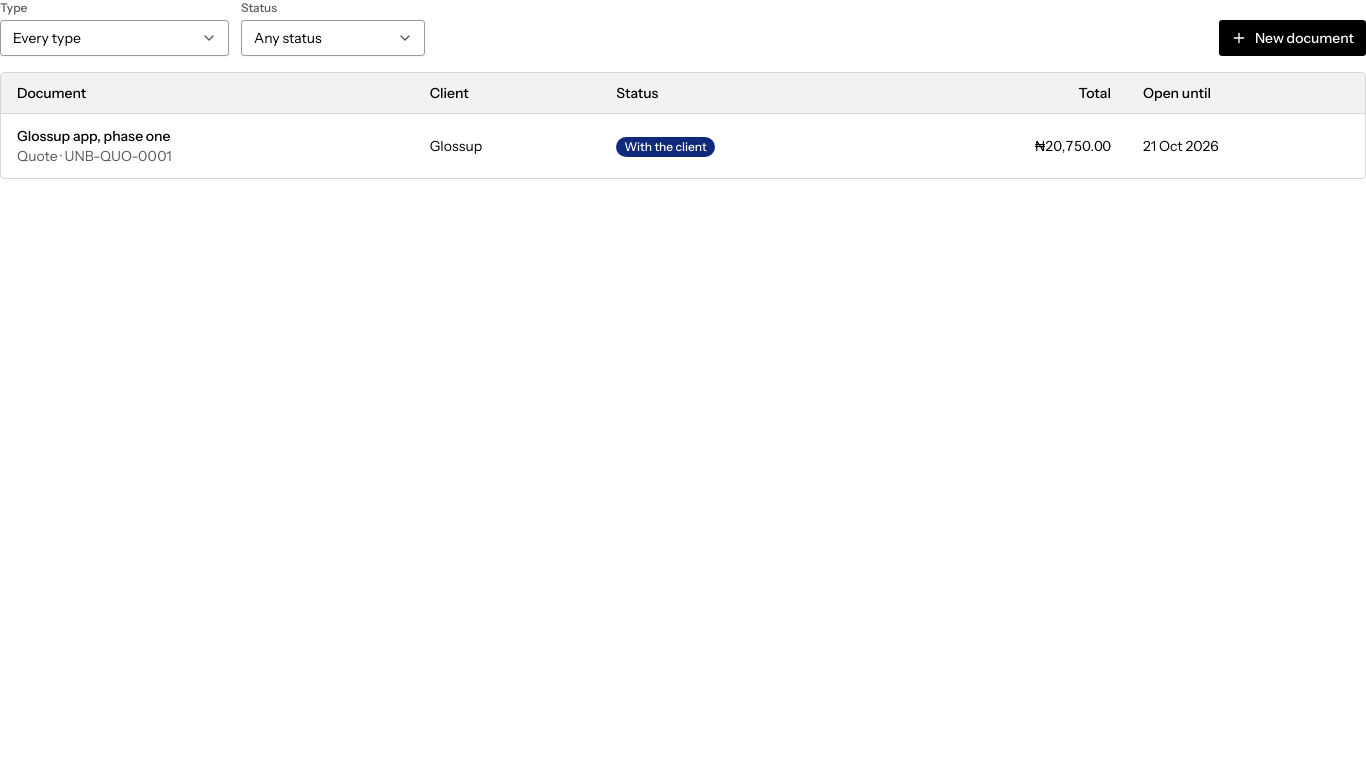
Test: DocumentList › warns that a legal template still needs a lawyer
Click the button "New document" at (1292, 38), box [1219, 20, 1365, 56]
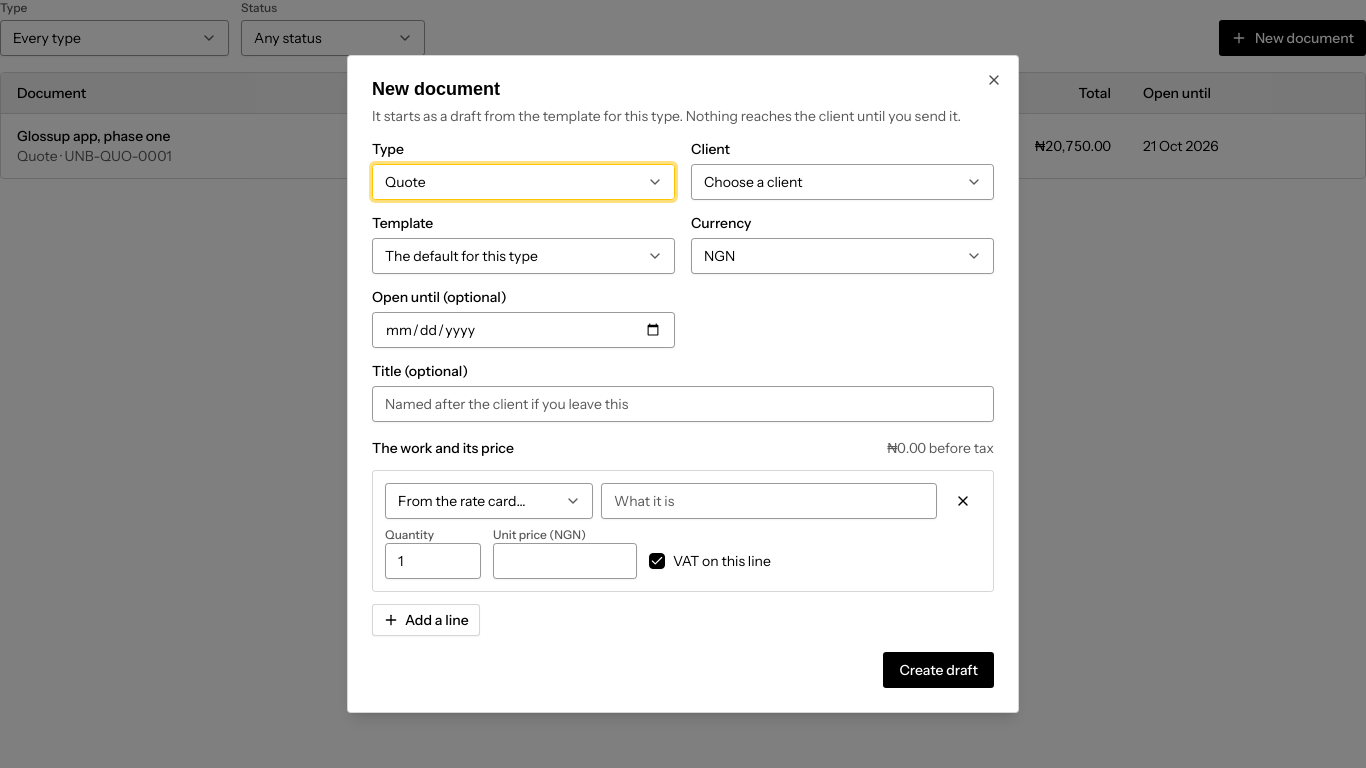
Select "Contract" in the dropdown labelled "Type" at (524, 182), box [372, 164, 675, 200]
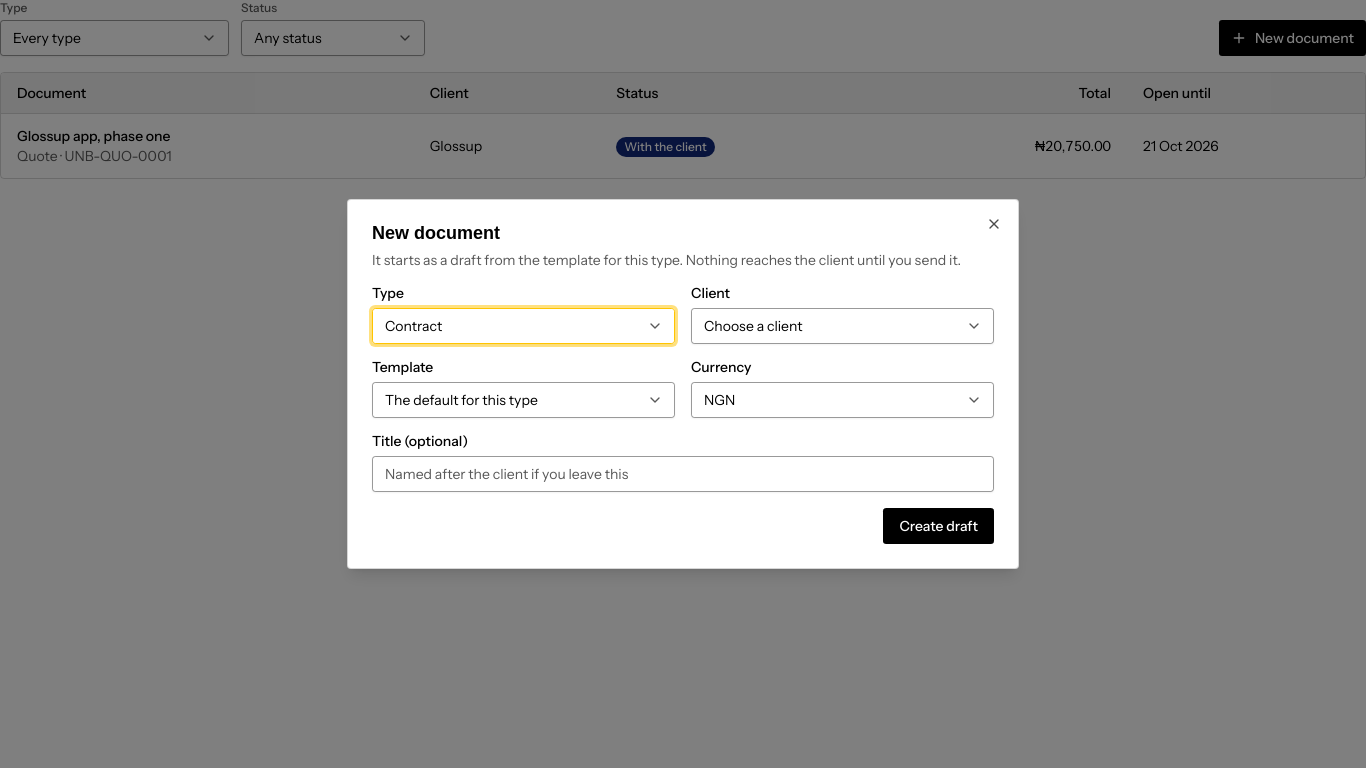
Select "Contract (default)" in the dropdown labelled "Template" at (524, 400), box [372, 382, 675, 418]
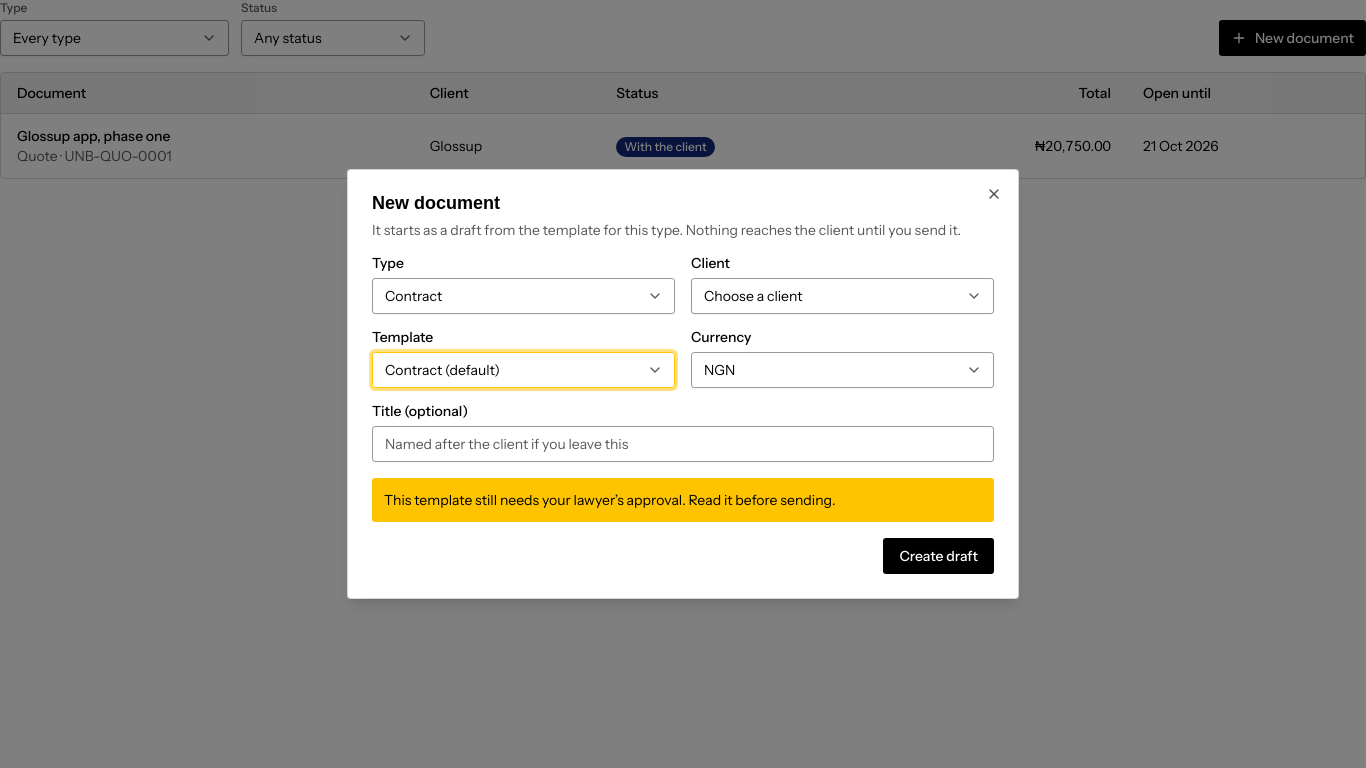
Expected: the text "needs your lawyer" is shown, [384, 491, 836, 509]
Note: Once the lawyer has approved the wording as it stands, there is nothing to warn about.
Select "Approved NDA (default)" in the dropdown labelled "Template" at (524, 370), box [372, 352, 675, 388]
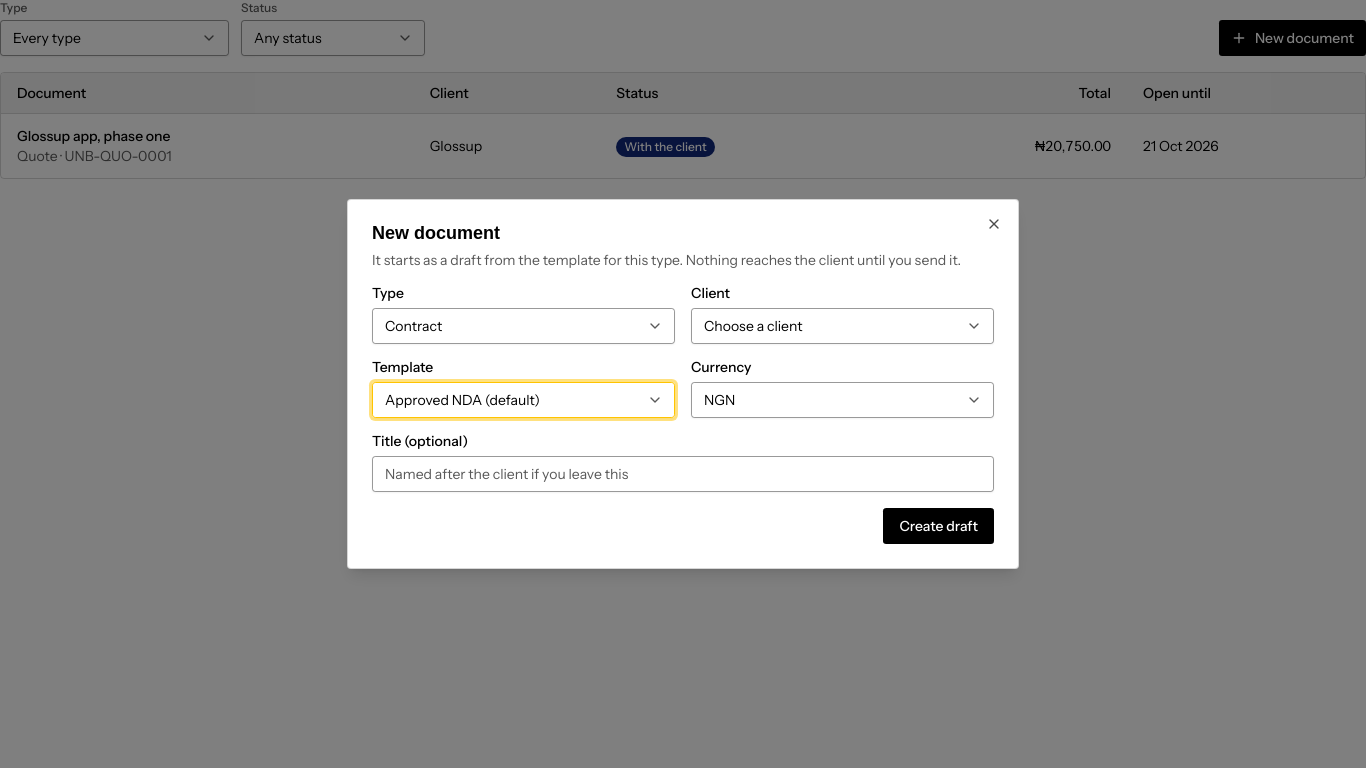
Expected: the text "needs your lawyer" is gone
